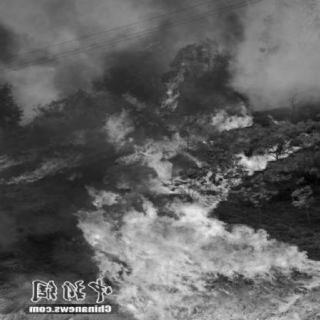Fire: (75, 30, 292, 316)
